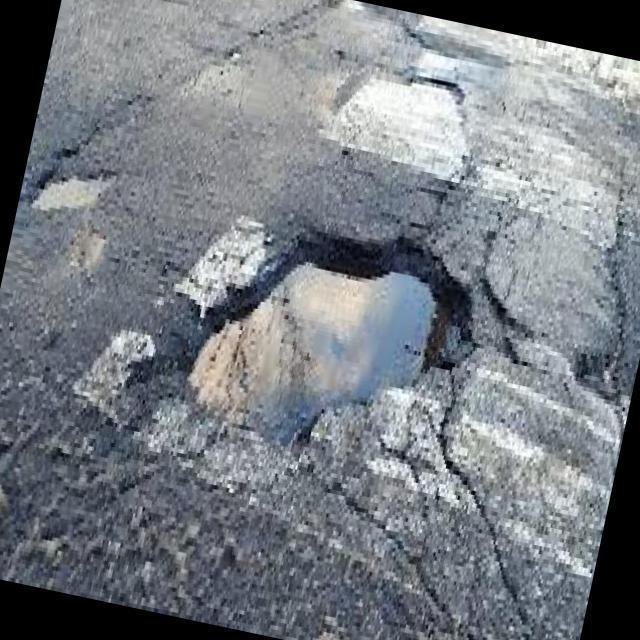Pothole: (171, 208, 486, 458)
